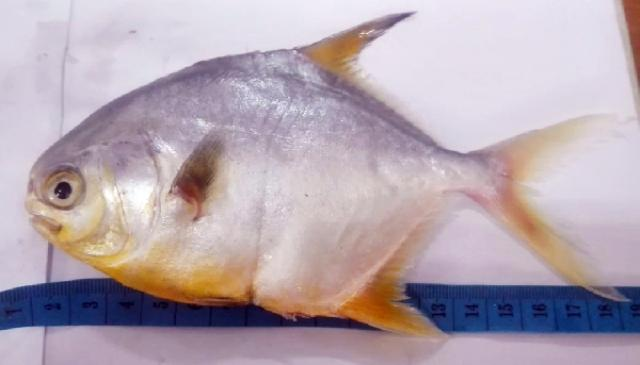Sirip Anal: (372, 184, 466, 272)
Sirip Dada: (147, 106, 250, 238)
Sirip Ekor: (466, 98, 640, 312), (6, 183, 70, 259)
Sirip Perut: (304, 272, 466, 356)
Sirip Punggung: (286, 4, 452, 146)
